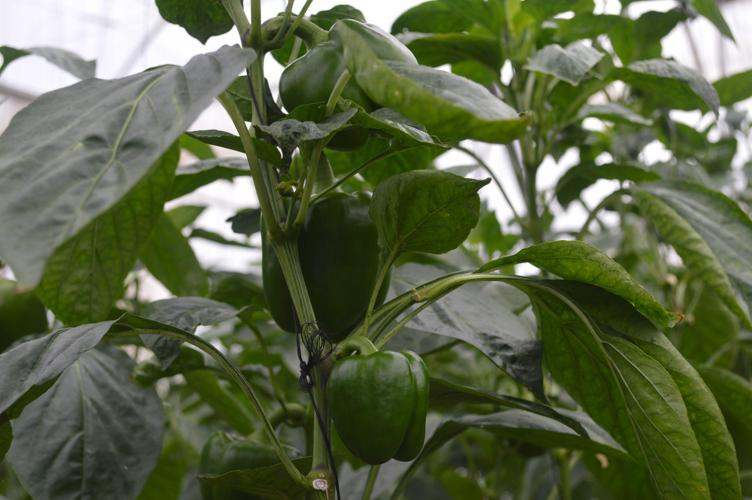BellPepper: (248, 186, 402, 335), (311, 348, 442, 469), (286, 28, 422, 137)
